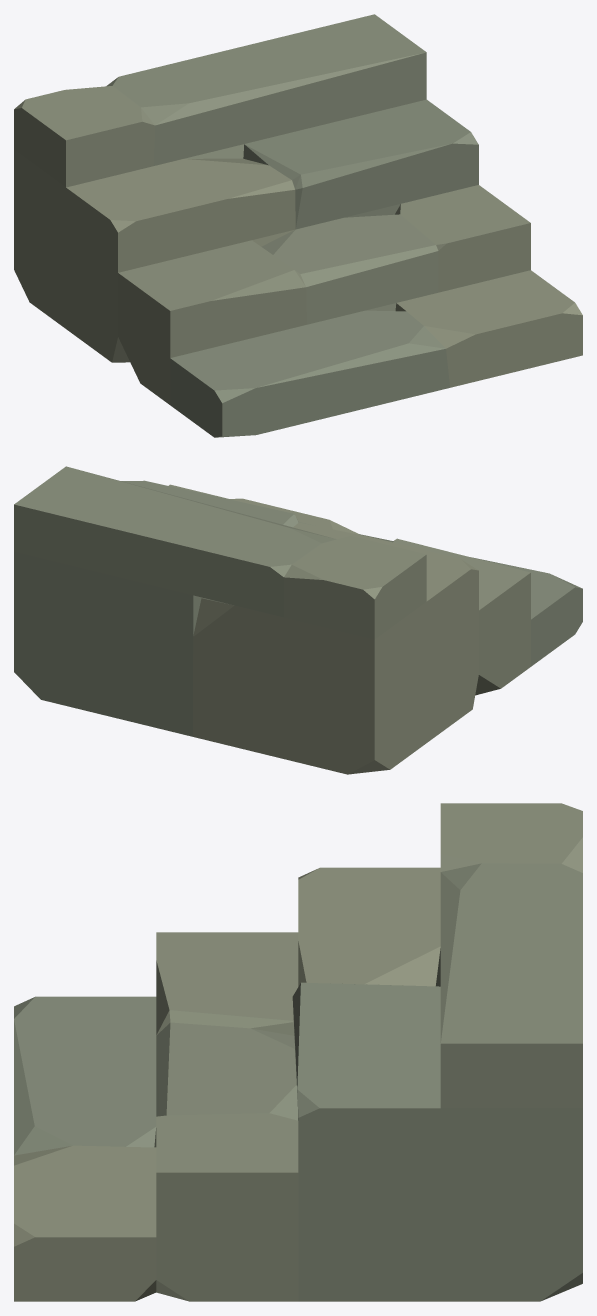
The model's file is stair_long_straight_wide_secondary.fbx.
3 views of the same model, one above another, from view 1: azimuth 30°, elevation 25°; view 2: azimuth 150°, elevation 25°; view 3: azimuth 270°, elevation 25° (orthographic). The views are drawn at different scales.
Visible parts, largest first — view 1: stair_long_straight_wide_secondary; view 2: stair_long_straight_wide_secondary; view 3: stair_long_straight_wide_secondary.
Boxes of the visible parts, box(x1,y1,x2,y2) form: stair_long_straight_wide_secondary: box(14, 14, 582, 437); stair_long_straight_wide_secondary: box(14, 466, 582, 774); stair_long_straight_wide_secondary: box(14, 803, 582, 1301).
Bounding box in the file's own units: 200 × 100 × 200.
